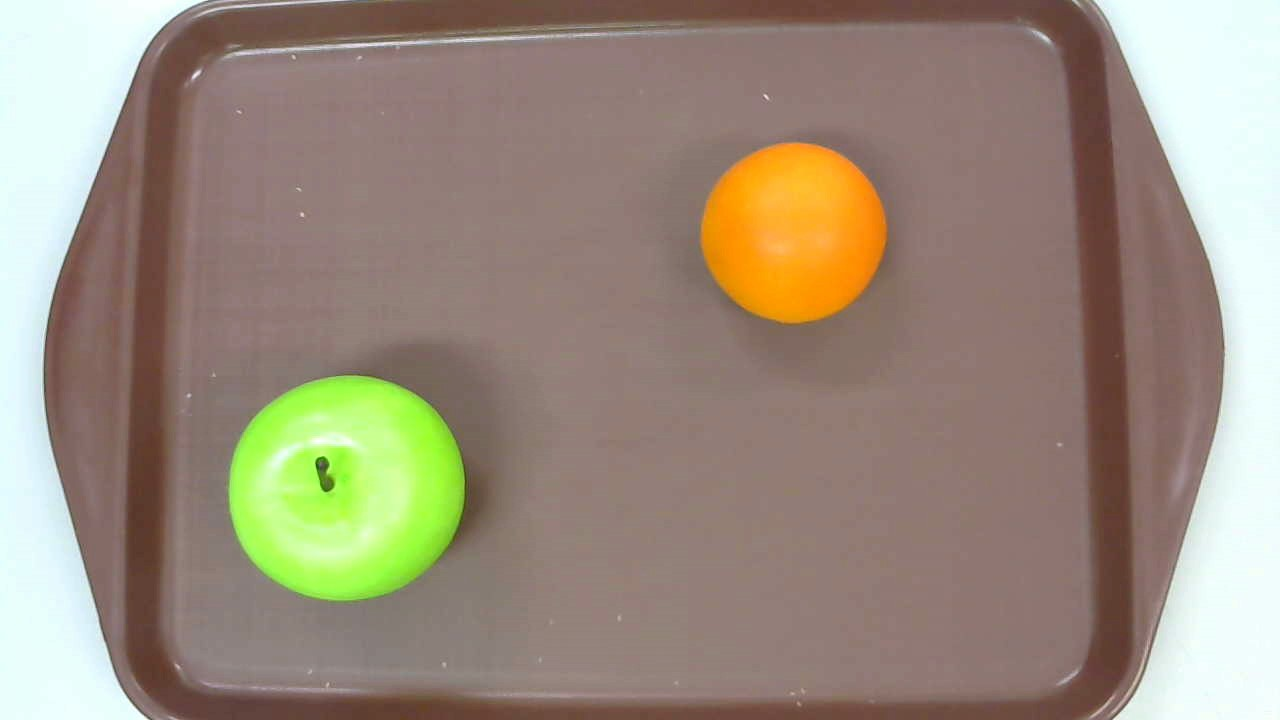bun: (700, 141, 887, 324)
green apple: (227, 374, 466, 600)
